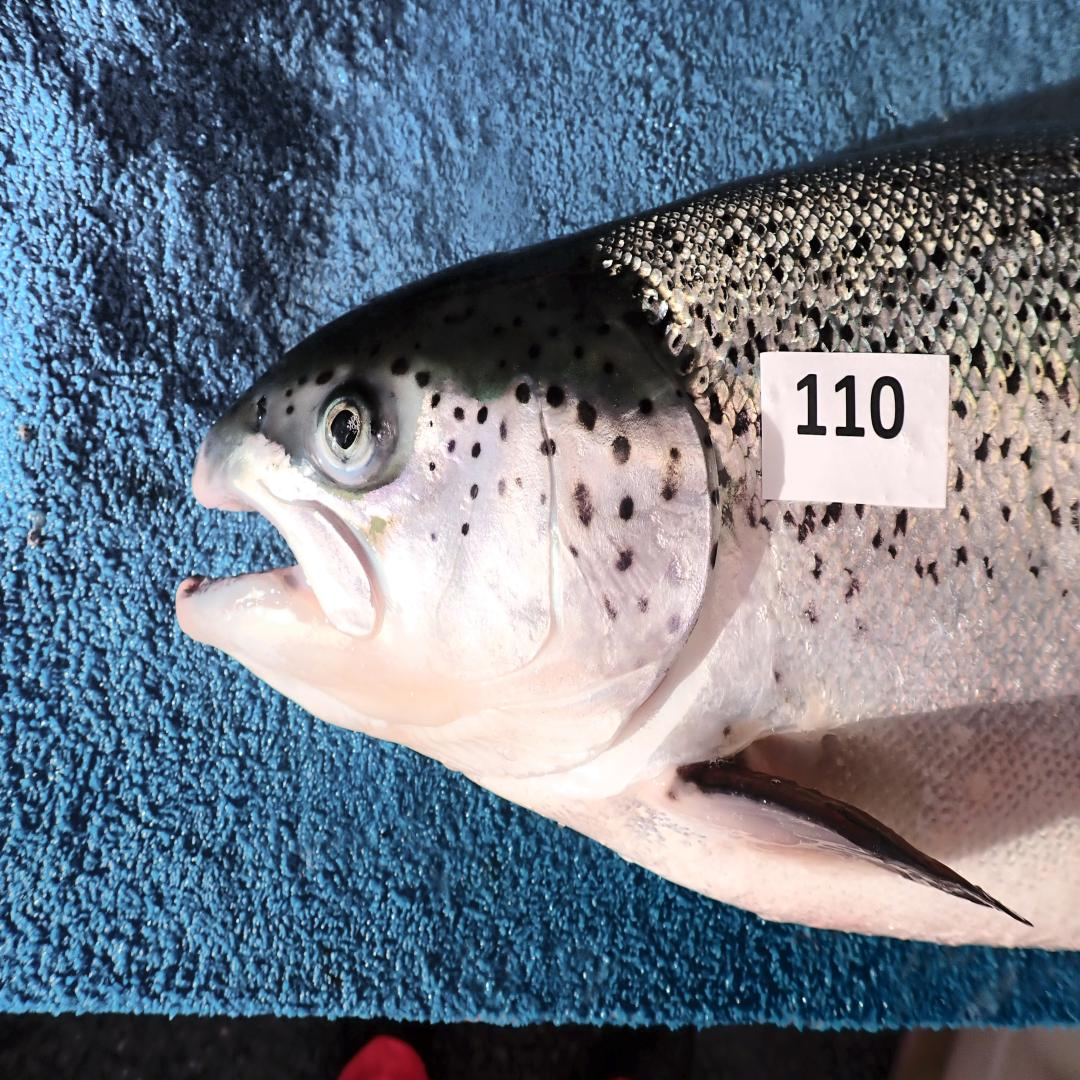spot: (661, 446, 682, 500), (574, 484, 593, 526), (578, 399, 597, 430), (612, 436, 631, 464), (667, 557, 683, 585), (546, 385, 565, 408), (618, 495, 635, 520), (616, 548, 633, 571), (603, 596, 618, 622), (667, 613, 681, 636), (540, 439, 557, 456), (515, 382, 529, 402), (639, 398, 653, 415), (637, 596, 650, 613), (415, 372, 429, 387), (477, 405, 487, 425), (709, 487, 719, 506), (500, 419, 508, 442), (470, 442, 481, 458), (424, 416, 435, 430), (567, 543, 578, 557), (430, 394, 441, 408), (470, 484, 479, 501), (711, 543, 717, 568), (498, 478, 506, 495), (447, 439, 456, 453), (454, 408, 464, 419), (428, 461, 437, 472), (462, 523, 468, 534), (540, 492, 546, 503), (516, 477, 522, 488), (431, 532, 437, 541)
